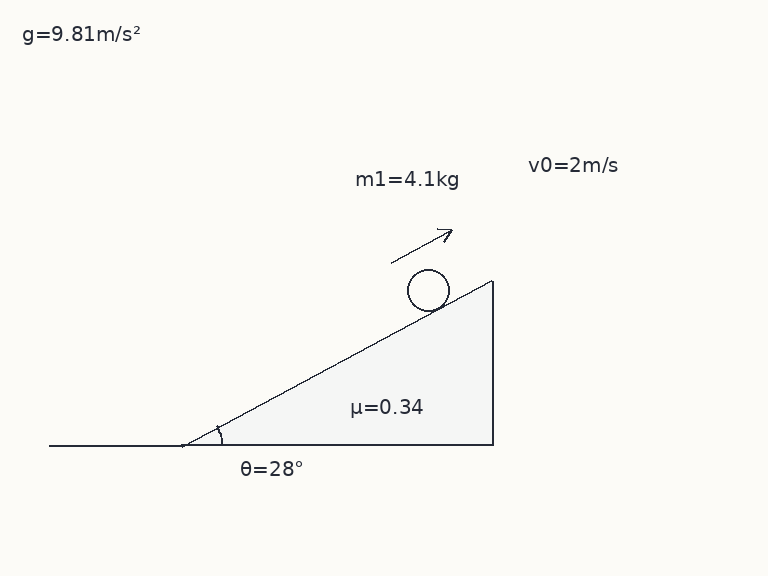ball: (405, 267, 451, 313)
ramp: (180, 278, 494, 447)
